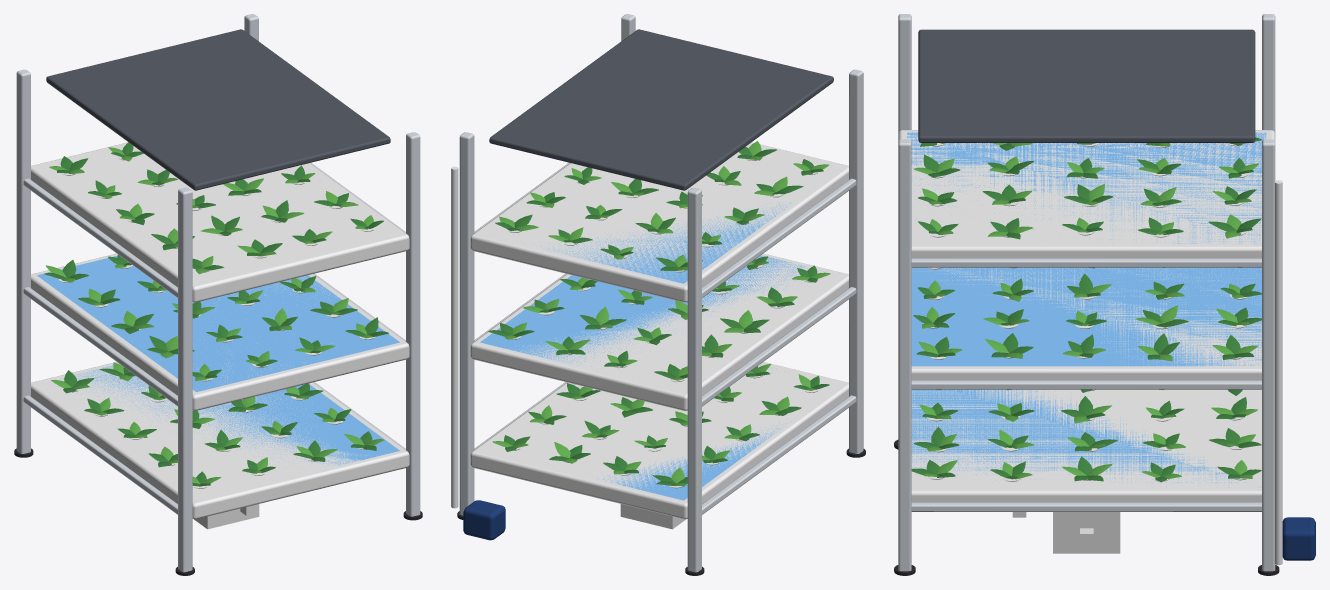
The model's file is HydroRack3.fbx.
The picture shows the model from 3 angles, left to right: view 1: azimuth 30°, elevation 25°; view 2: azimuth 150°, elevation 25°; view 3: azimuth 270°, elevation 25°; orthographic projection. The views are drawn at different scales.
Visible parts, largest first — view 1: Body__White, Body__MetalDark, Body__Water, Body__Chrome, Body__LeafDark, Body__Leaf, Origin__Pivot; view 2: Body__White, Body__MetalDark, Body__Chrome, Body__Water, Body__LeafDark, Body__Leaf, Body__BlueDark, Origin__Pivot; view 3: Body__White, Body__Water, Body__MetalDark, Body__Chrome, Body__LeafDark, Body__Leaf, Origin__Pivot, Body__BlueDark.
Boxes of the visible parts, x1,y1,x2,y2 form: Body__White: (31,142,409,519); Body__MetalDark: (46,29,390,190); Body__Water: (37,255,399,467); Body__Chrome: (16,14,420,572); Body__LeafDark: (44,142,388,486); Body__Leaf: (46,147,384,484); Origin__Pivot: (194,504,259,529); Body__White: (451,142,848,519); Body__MetalDark: (489,29,833,190); Body__Chrome: (459,14,863,572); Body__Water: (480,202,820,500); Body__LeafDark: (488,147,829,486); Body__Leaf: (492,141,830,486); Body__BlueDark: (463,500,505,540); Origin__Pivot: (620,504,685,529); Body__White: (898,130,1282,565); Body__Water: (907,132,1266,487); Body__MetalDark: (918,29,1255,142); Body__Chrome: (898,14,1275,571); Body__LeafDark: (911,137,1261,482); Body__Leaf: (913,143,1258,479); Origin__Pivot: (1053,512,1120,553); Body__BlueDark: (1282,517,1315,560).
Bounding box in the file's own units: 4.77 × 7.55 × 6.26.
